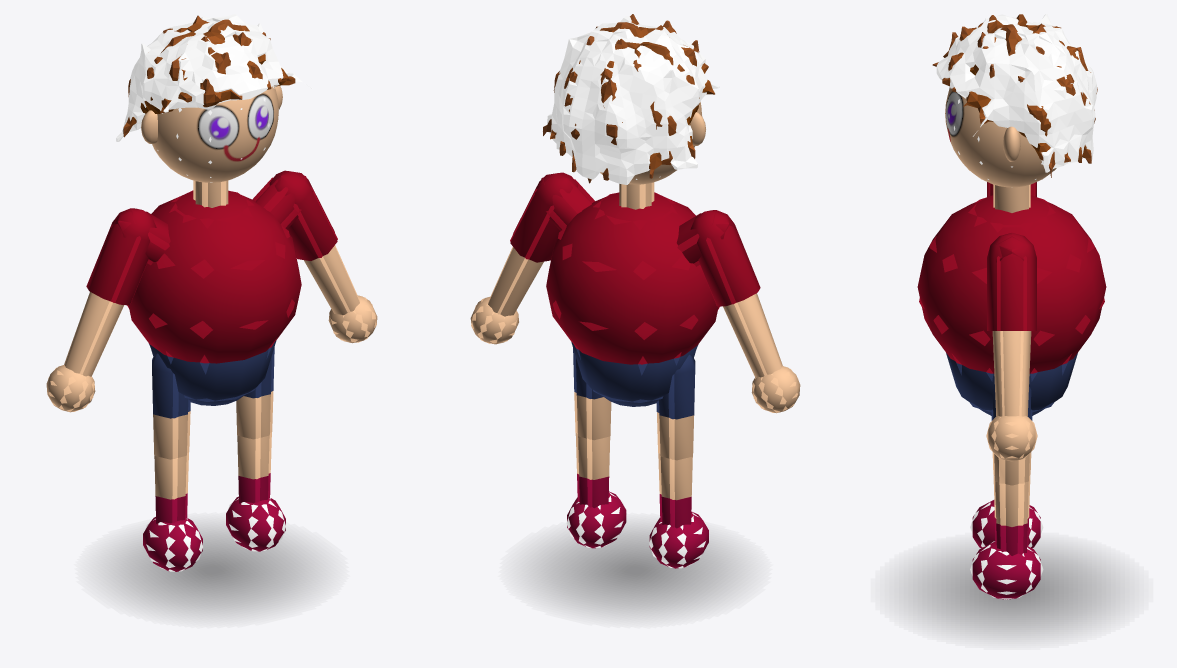
3 renders of one model, left to right at view 1: azimuth 30°, elevation 25°; view 2: azimuth 150°, elevation 25°; view 3: azimuth 270°, elevation 25°, orthographic. The views are drawn at different scales.
Size of the model in its own units: 1.49 by 2.39 by 1.15.
19 materials, 2 textured.
